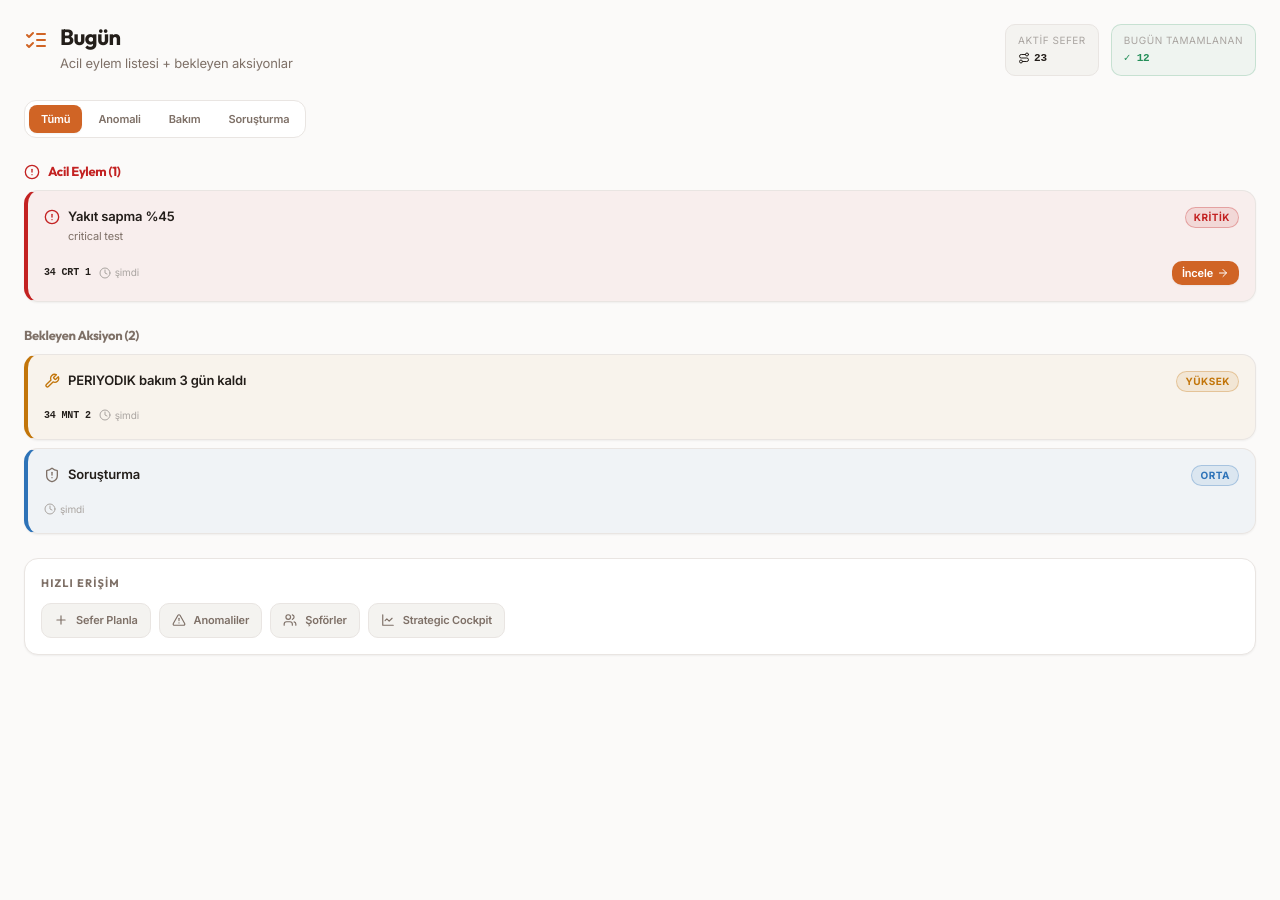
Test: TodayPage (mocked) › tab switch — Bakım sekmesine geçince anomali görünmez
Expected: the text "Yakıt sapma %45" is shown, [68,206,175,226]
Click the button "Bakım": (185, 119) [157,104,213,133]
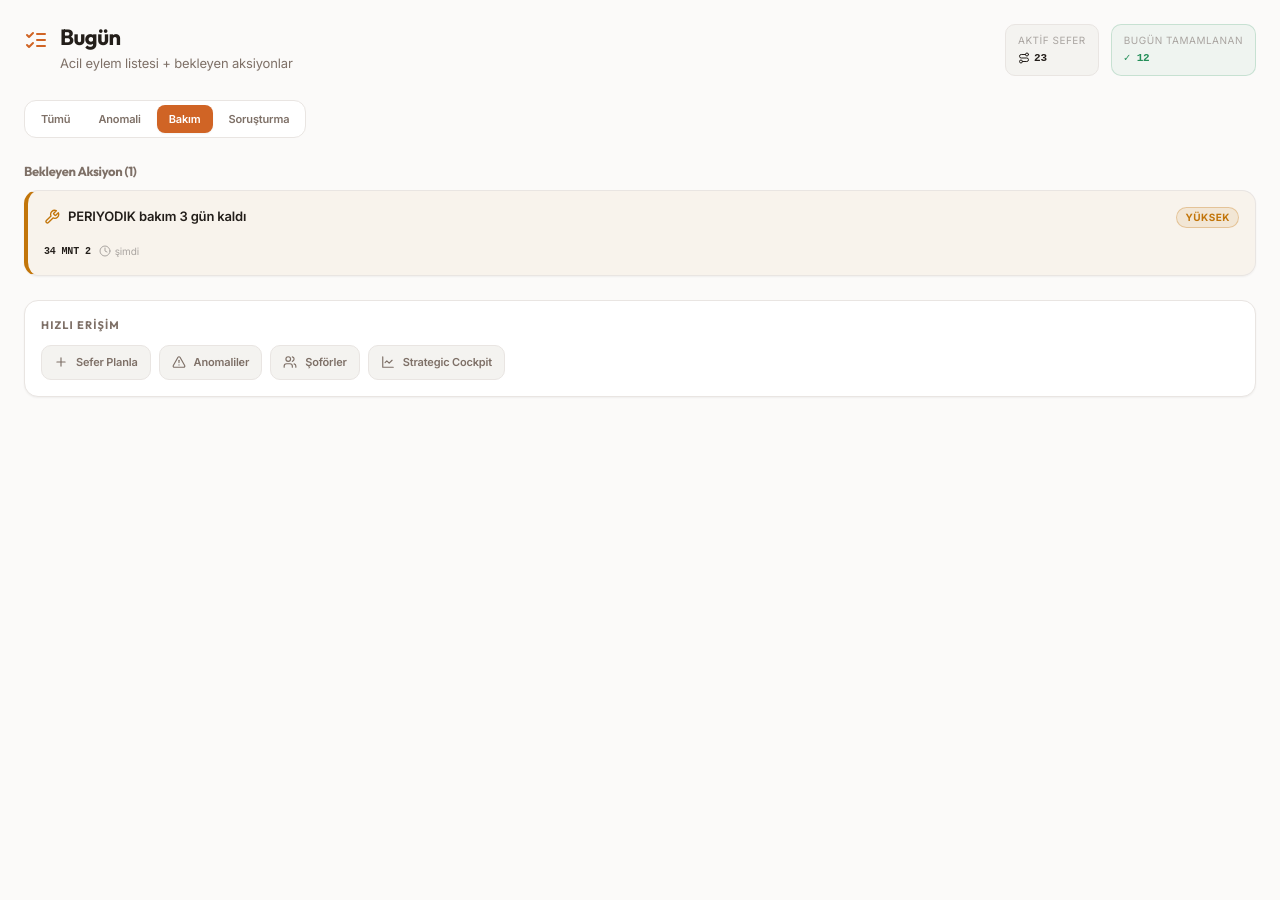
Expected: the text "PERIYODIK bakım 3 gün kaldı" is shown, [68,206,246,226]
Result: the text "Yakıt sapma %45" is gone
